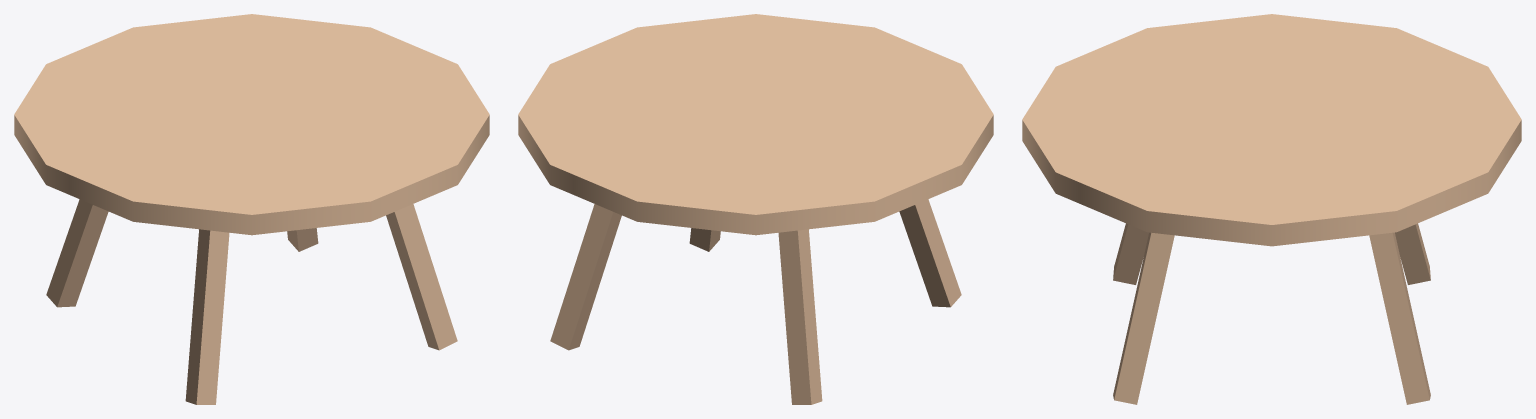
Rendered from coffeeRoundMidCentury.glb.
3 renders of one model, left to right at view 1: azimuth 30°, elevation 25°; view 2: azimuth 150°, elevation 25°; view 3: azimuth 270°, elevation 25°, orthographic. The views are drawn at different scales.
Parts seen in each view (by area): view 1: coffeeRoundMidCentury; view 2: coffeeRoundMidCentury; view 3: coffeeRoundMidCentury.
Boxes of the visible parts, x1=… form: coffeeRoundMidCentury: x1=14, y1=14, x2=489, y2=404; coffeeRoundMidCentury: x1=518, y1=14, x2=993, y2=404; coffeeRoundMidCentury: x1=1022, y1=14, x2=1521, y2=404.
Bounding box in the file's own units: 0.425 × 0.2092 × 0.425.
